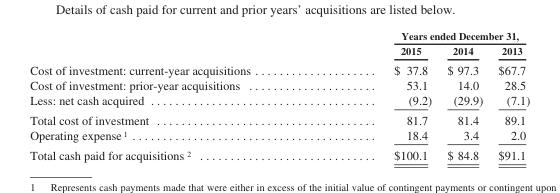table: (29, 29, 529, 161)
table column: (29, 29, 322, 161), (322, 29, 438, 161), (438, 29, 489, 161), (489, 29, 529, 161)
table column header: (29, 29, 529, 59)
table row: (29, 59, 529, 77), (29, 109, 529, 127), (29, 42, 529, 59), (29, 92, 529, 109), (29, 127, 529, 144), (29, 144, 529, 161), (29, 77, 529, 92), (29, 29, 529, 42)
table spanning cell: (322, 29, 529, 42)
